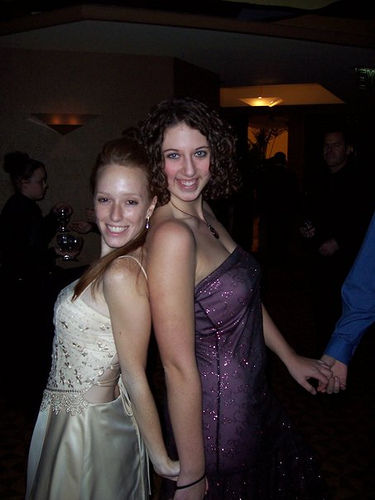without_mask: (91, 160, 155, 248), (155, 120, 217, 204), (322, 129, 358, 172), (19, 159, 50, 204)
